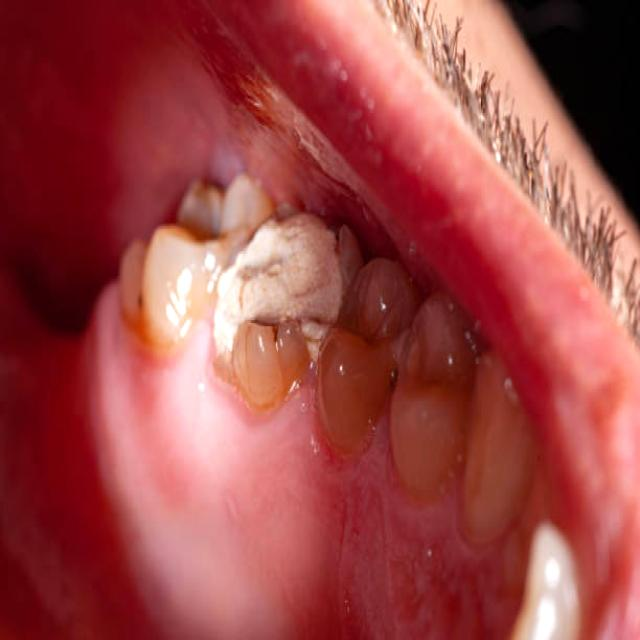cariess: (214, 234, 340, 409)
